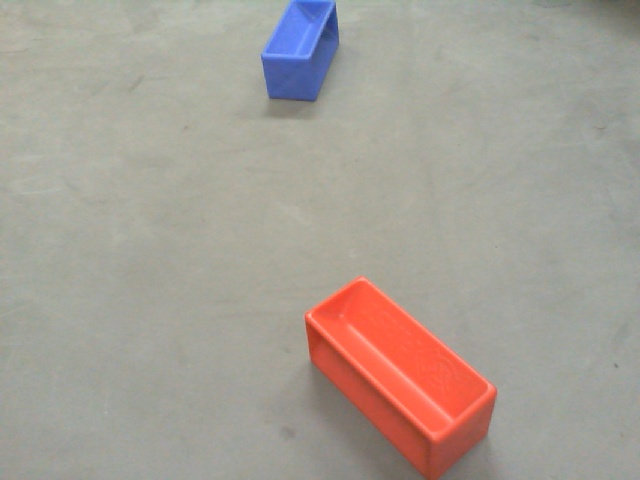BlueSample: (258, 1, 340, 110)
RedSample: (296, 272, 498, 480)
